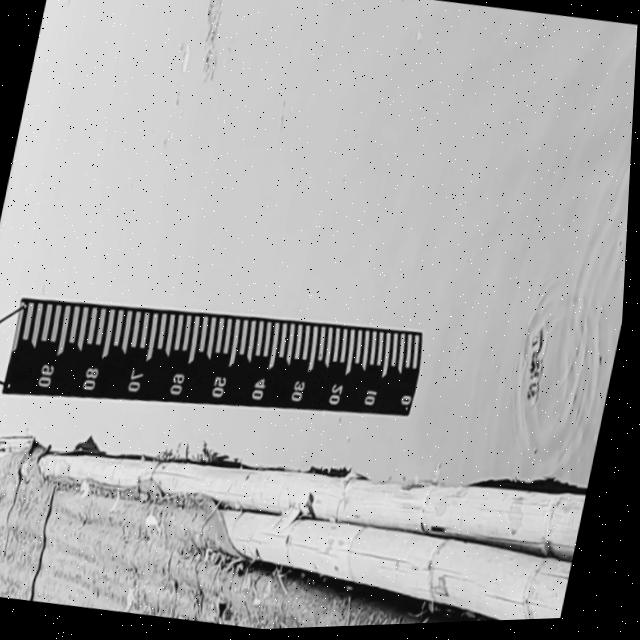water-meter: (0, 256, 444, 471)
